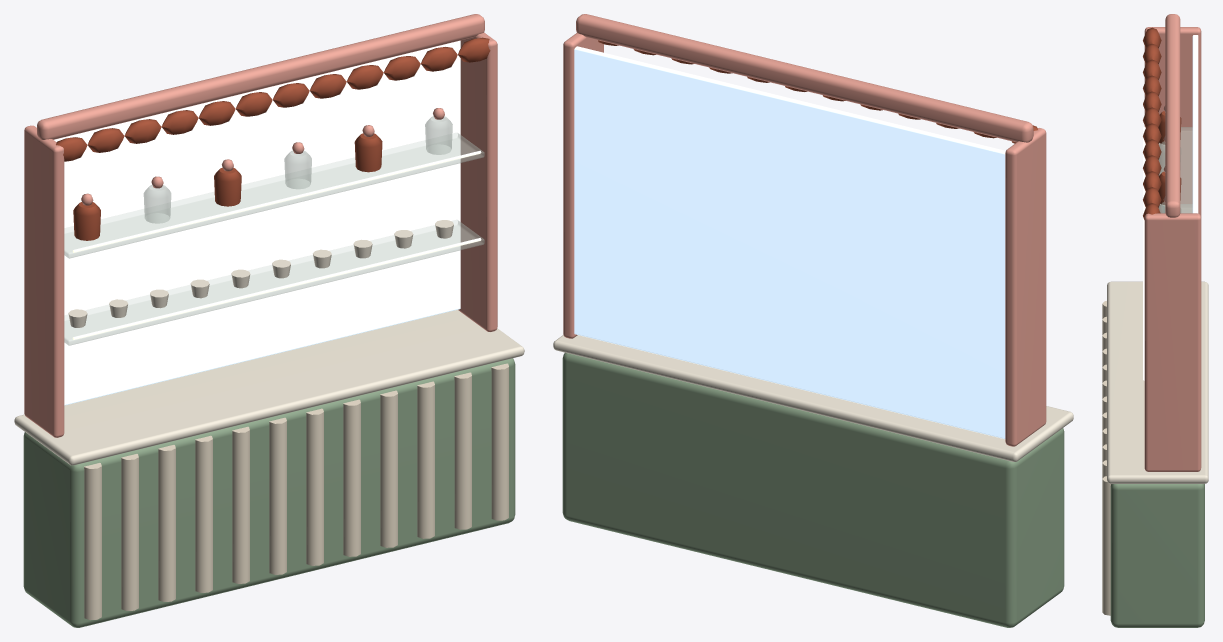
File: back_bar_shelves.glb
3 renders of one model, left to right at view 1: azimuth 30°, elevation 25°; view 2: azimuth 150°, elevation 25°; view 3: azimuth 270°, elevation 25°, orthographic. The views are drawn at different scales.
Parts seen in each view (by area): view 1: back_bar_shelves; view 2: back_bar_shelves; view 3: back_bar_shelves.
Boxes of the visible parts, x1,y1,x2,y2 form: back_bar_shelves: (14, 14, 524, 627); back_bar_shelves: (553, 14, 1073, 627); back_bar_shelves: (1102, 14, 1208, 627).
Size of the model in its own units: 2.46 by 2.5 by 0.565.
